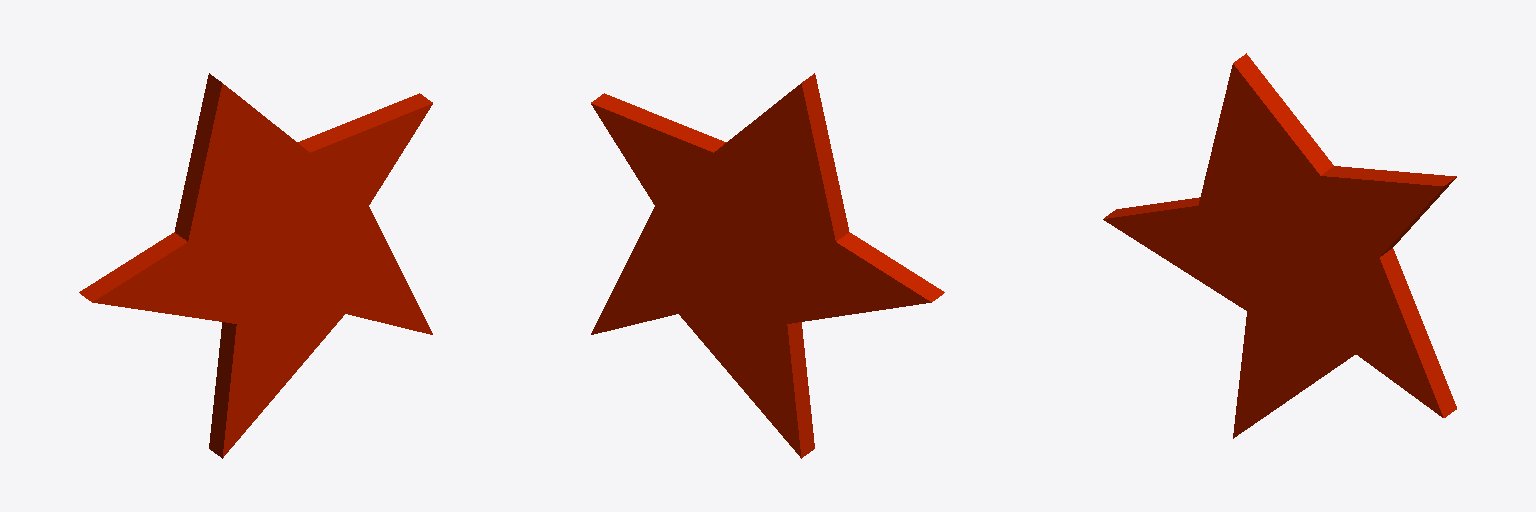
Rendered from blade.obj.
3 views of the same model, side by side, from view 1: azimuth 30°, elevation 25°; view 2: azimuth 150°, elevation 25°; view 3: azimuth 330°, elevation 25° (orthographic).
Parts seen in each view (by area): view 1: Cylinder; view 2: Cylinder; view 3: Cylinder.
Part boxes in pixels (x1,y1,x2,y2): Cylinder: (79,73,432,458); Cylinder: (591,73,944,458); Cylinder: (1103,53,1456,438).
Size of the model in its own units: 1.45 by 1.52 by 0.1.